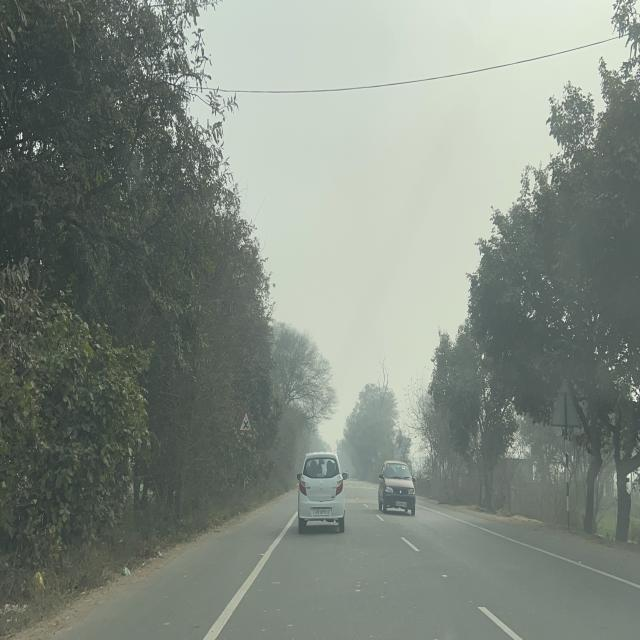CROSS_ROAD: (238, 408, 253, 433)
